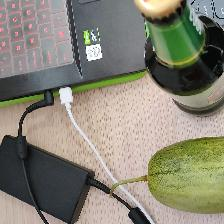gua: (147, 146, 224, 208)
